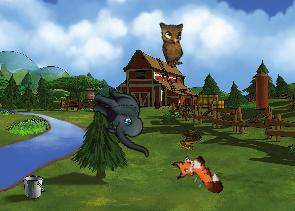elephant: (81, 83, 164, 157)
fox: (168, 145, 226, 207)
owl: (154, 16, 195, 69)
